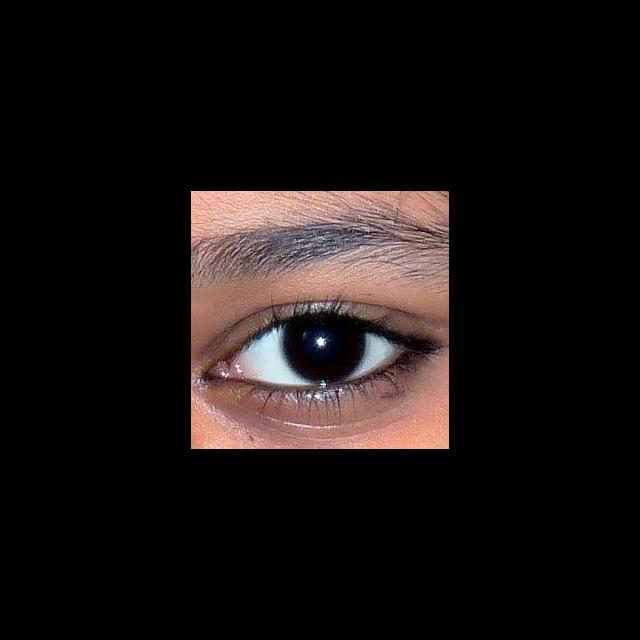eye: (233, 318, 404, 385)
iris: (281, 319, 366, 382)
